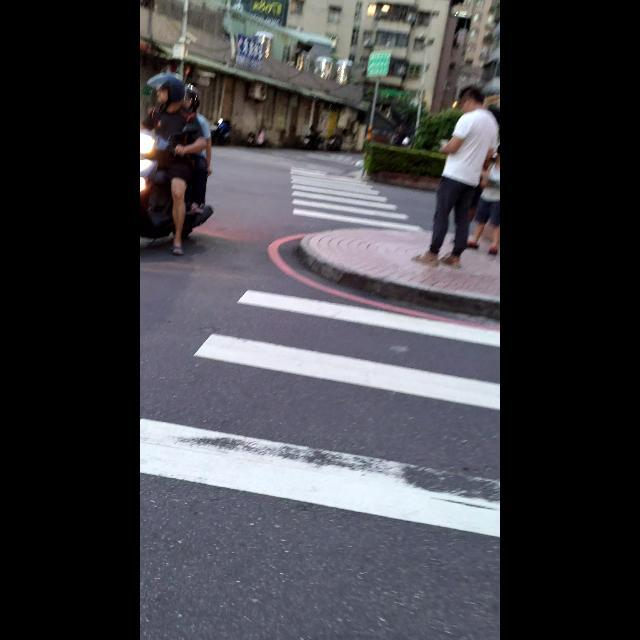sidewalk: (140, 275, 500, 550), (290, 161, 430, 230)
